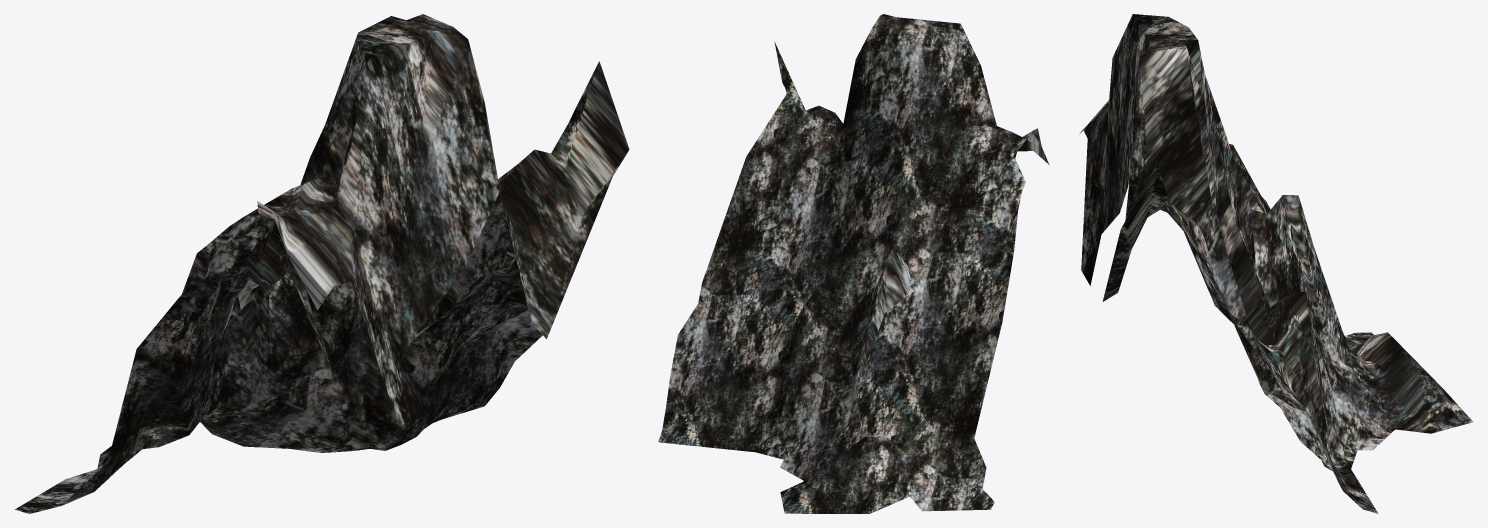
The model's file is OVERHILL_A_01_MOUN1_OBJECT159.fbx.
3 views of the same model, side by side, from view 1: azimuth 30°, elevation 25°; view 2: azimuth 150°, elevation 25°; view 3: azimuth 270°, elevation 25° (orthographic). The views are drawn at different scales.
Visible parts, largest first — view 1: OVERHILL_A_01_MOUN1_OBJECT159; view 2: OVERHILL_A_01_MOUN1_OBJECT159; view 3: OVERHILL_A_01_MOUN1_OBJECT159.
Part boxes in pixels (bbox=[...]): OVERHILL_A_01_MOUN1_OBJECT159: bbox=[15, 14, 629, 513]; OVERHILL_A_01_MOUN1_OBJECT159: bbox=[658, 14, 1049, 513]; OVERHILL_A_01_MOUN1_OBJECT159: bbox=[1079, 14, 1473, 513].
Size of the model in its own units: 326606 by 342959 by 303893.
Materials: 1 (1 with a texture image).
